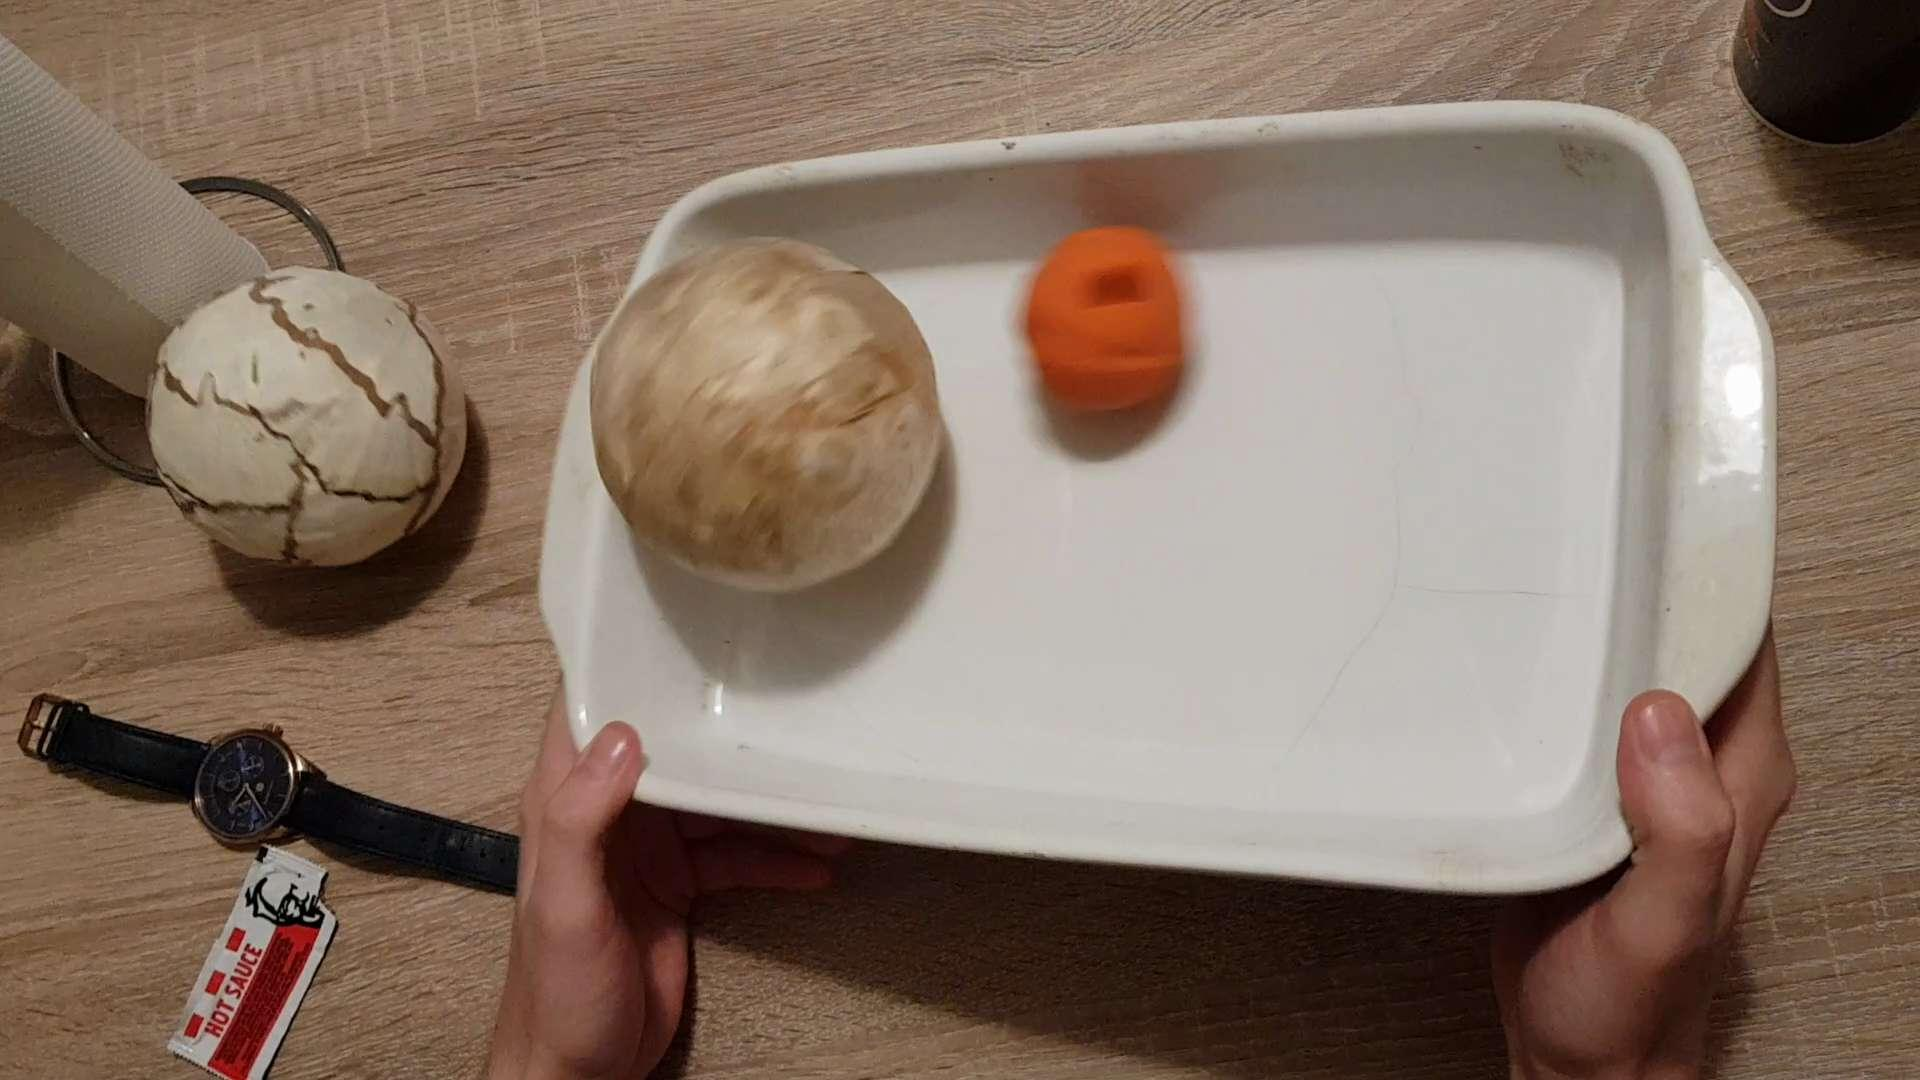sphere: (591, 222, 927, 592), (137, 265, 454, 582), (1011, 233, 1184, 426)
